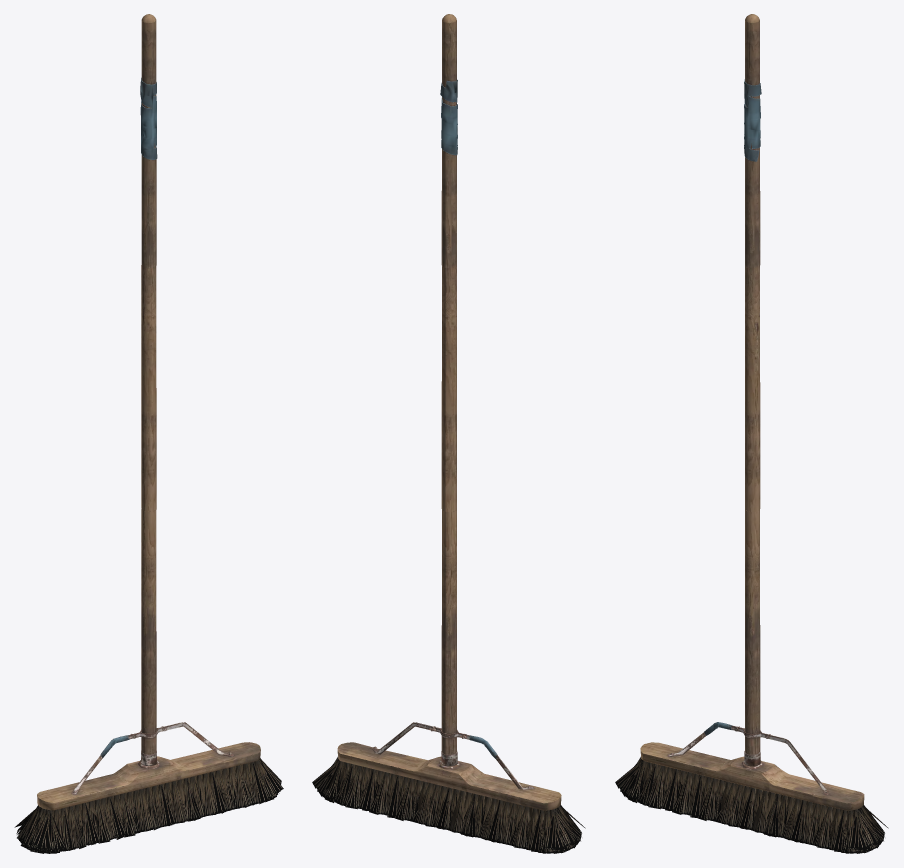
File: wooden_broom.glb
3 views of the same model, side by side, from view 1: azimuth 30°, elevation 25°; view 2: azimuth 150°, elevation 25°; view 3: azimuth 330°, elevation 25° (orthographic).
Parts seen in each view (by area): view 1: wooden_broom_handle, wooden_broom_bristles, wooden_broom; view 2: wooden_broom_handle, wooden_broom_bristles, wooden_broom; view 3: wooden_broom_handle, wooden_broom_bristles, wooden_broom.
Boxes of the visible parts, left/top/right/bottom form: wooden_broom_handle: left=140, top=14, right=157, bottom=765; wooden_broom_bristles: left=14, top=758, right=283, bottom=853; wooden_broom: left=37, top=722, right=261, bottom=825; wooden_broom_handle: left=440, top=14, right=457, bottom=766; wooden_broom_bristles: left=312, top=757, right=585, bottom=853; wooden_broom: left=337, top=722, right=564, bottom=827; wooden_broom_handle: left=744, top=14, right=761, bottom=766; wooden_broom_bristles: left=615, top=757, right=888, bottom=853; wooden_broom: left=640, top=722, right=864, bottom=827.
Size of the model in its own units: 0.4875 by 1.45 by 0.1125.
2 materials, 2 textured.
